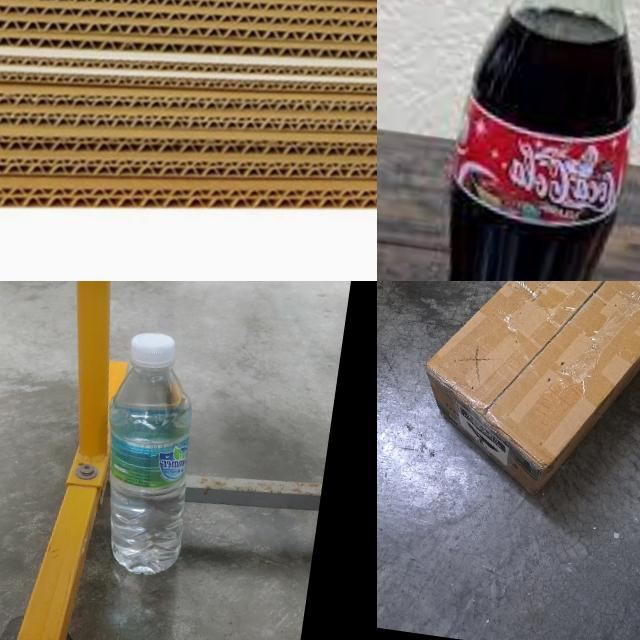garrafa de vidro: (408, 0, 640, 281)
garrafa plástica: (85, 358, 208, 583)
papelão: (0, 0, 377, 278), (411, 281, 640, 515)
tampa plástica: (124, 329, 178, 375)
